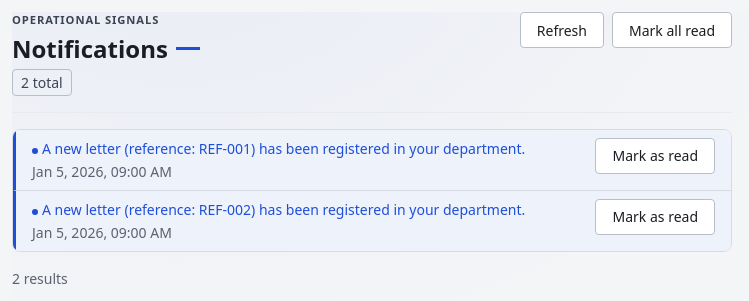
Scenario: NotificationsPage › marks all read
The width and height of the screenshot is (749, 301).
Step 1. Click the button "Mark all read" → (672, 30), box [612, 12, 732, 48]
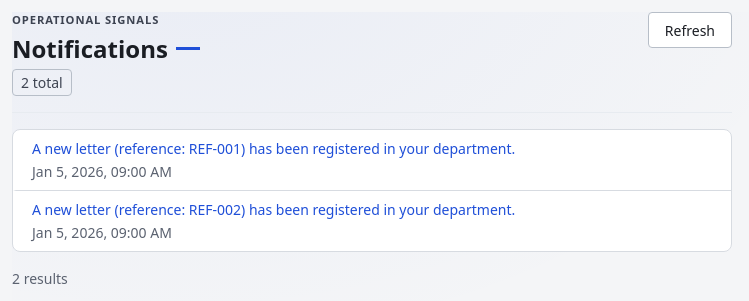
Expected: no buttons "Mark as read" are shown
